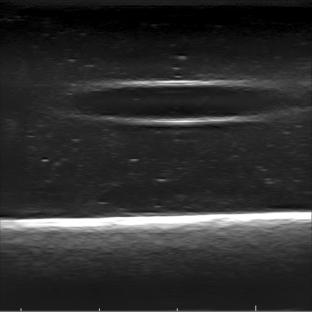vessel: (72, 78, 284, 126)
